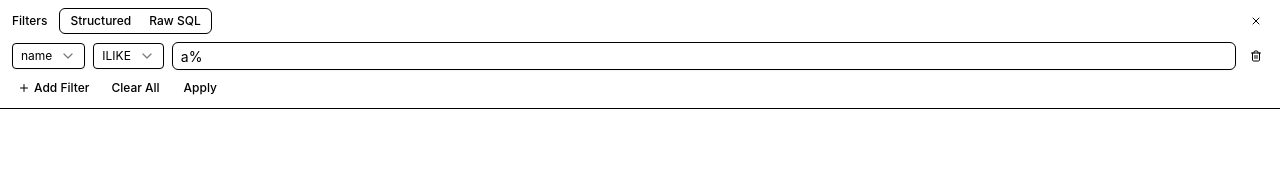
Test case: FilterBar operator list follows the connected dialect (#2430) › still hides the dropped operator from the dropdown
This screenshot has width=1280, height=171.
Click the dropdown named "Filter operator": (129, 56) [93, 43, 164, 69]
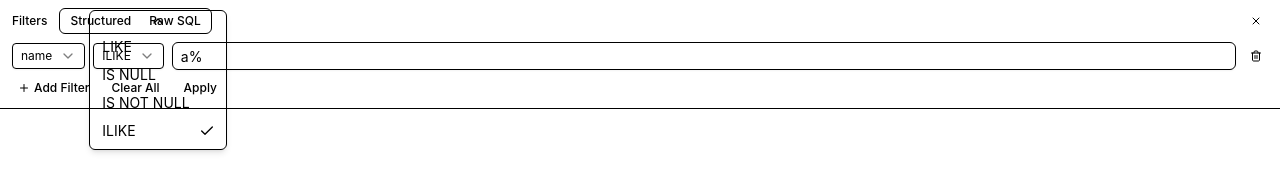
Check: the number of options "ILIKE" is 1, box [94, 117, 222, 145]
Check: the option "LIKE" is shown, box [102, 38, 132, 55]
